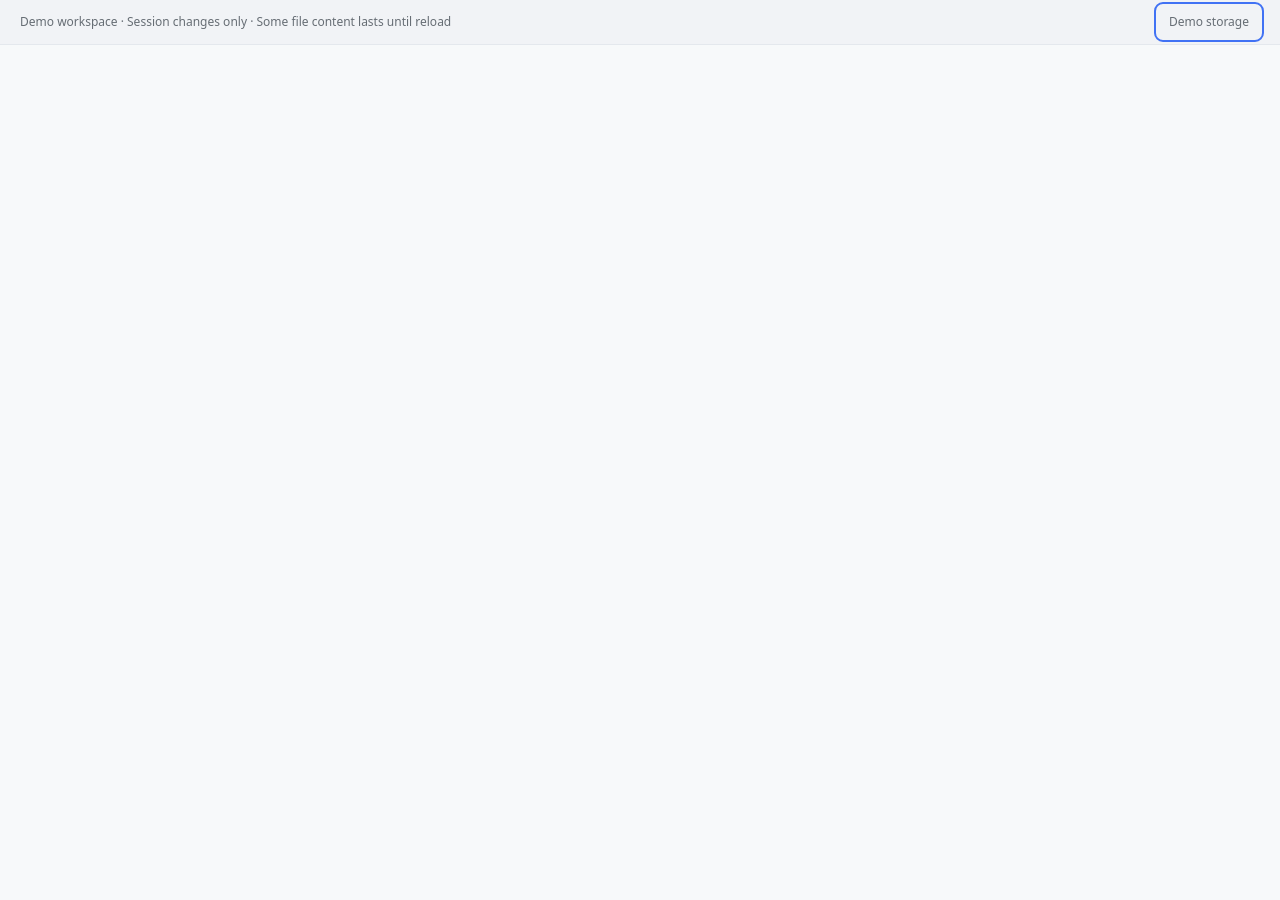
storage dialog returns focus to its opener even after a read failure (false)
This screenshot has width=1280, height=900.
Click the button "Demo storage".
click(1209, 22)  # box left=1158, top=6, right=1260, bottom=38
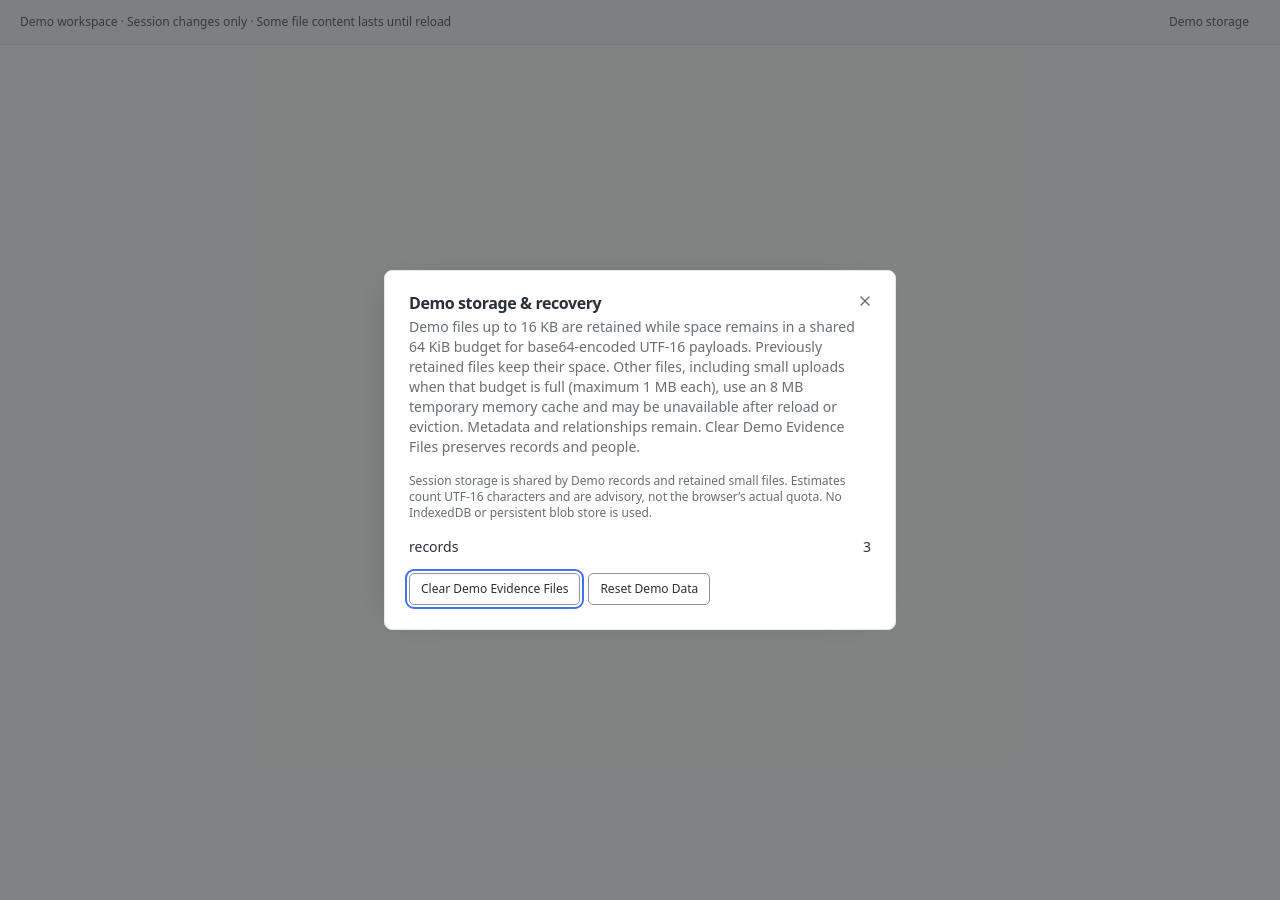
Expected: the dialog is shown, left=384, top=270, right=896, bottom=630
Press Escape in the button "Clear Demo Evidence Files", box left=409, top=573, right=580, bottom=605
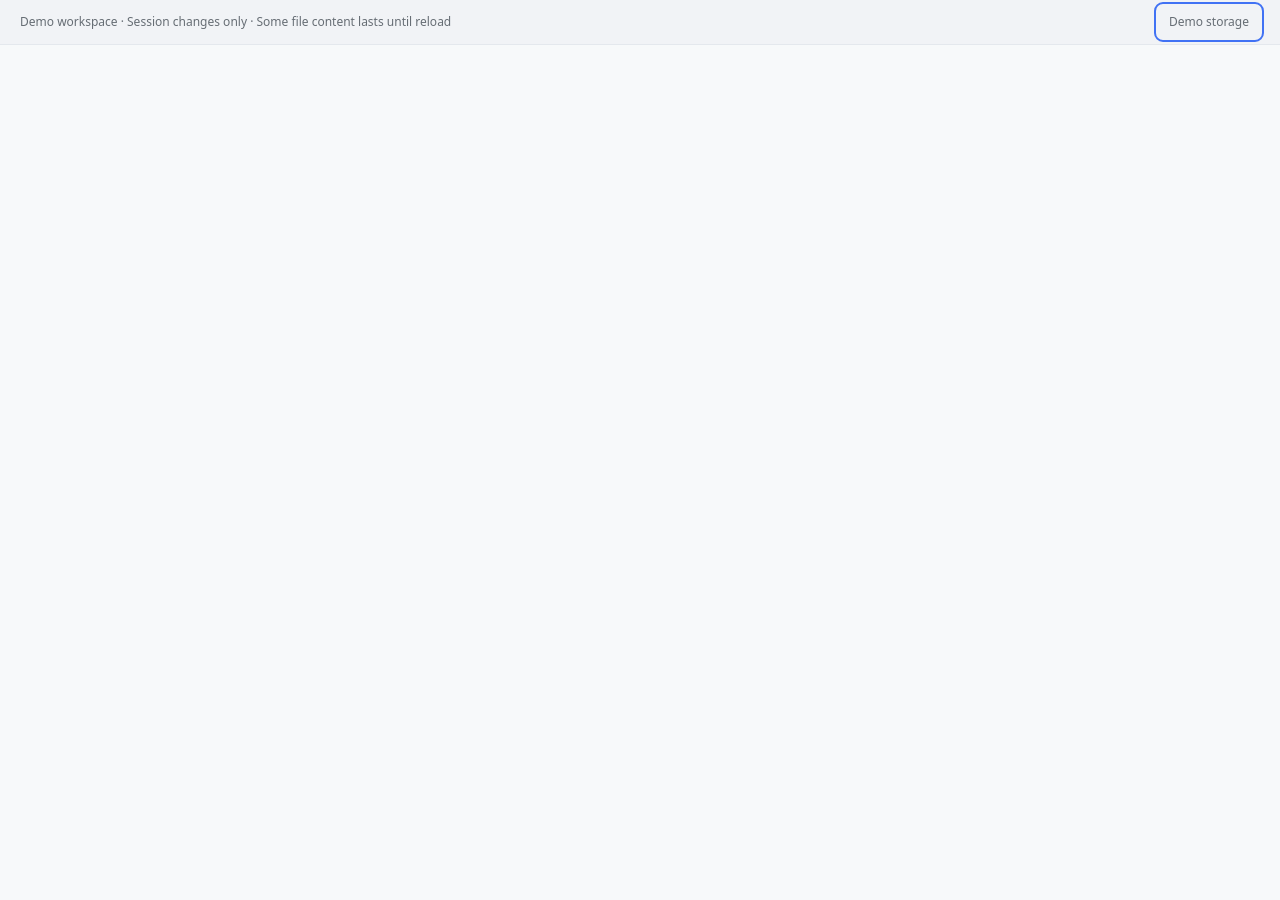
Expected: the dialog is gone
